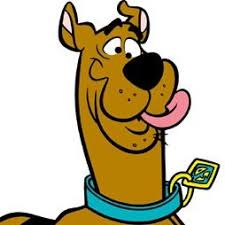scooby: (1, 1, 195, 225)
